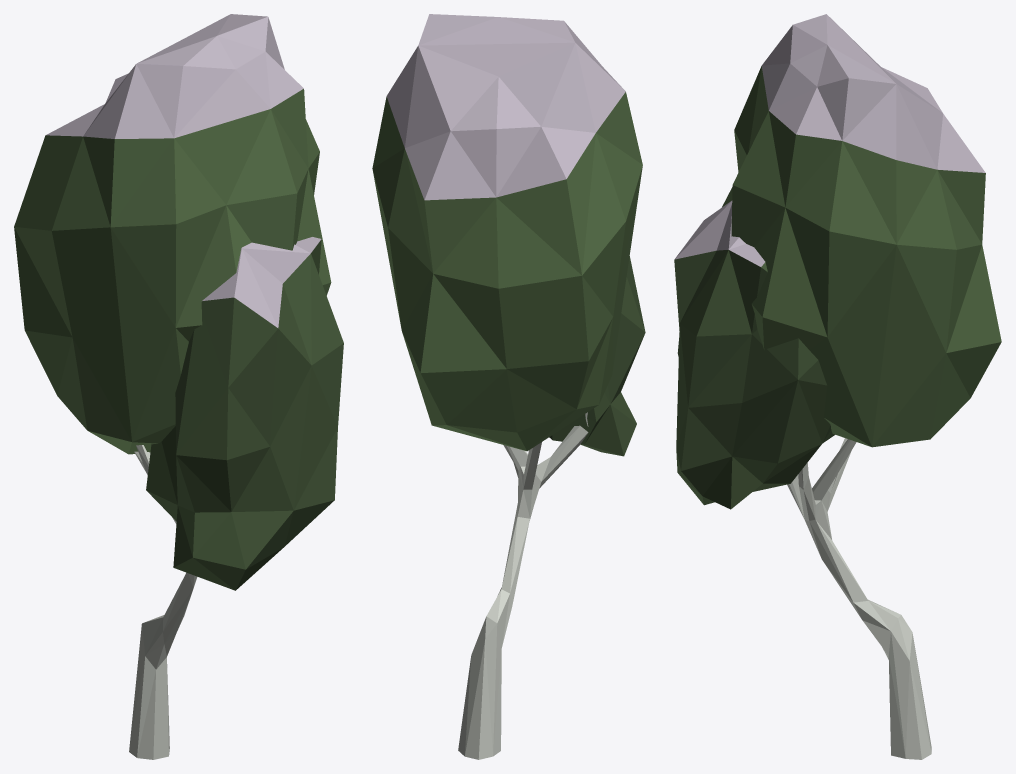
Rendered from BirchTree_Snow_2.lod2.glb.
The picture shows the model from 3 angles, left to right: view 1: azimuth 30°, elevation 25°; view 2: azimuth 150°, elevation 25°; view 3: azimuth 270°, elevation 25°; orthographic projection. The views are drawn at different scales.
Visible parts, largest first — view 1: BirchTree_Snow_2; view 2: BirchTree_Snow_2; view 3: BirchTree_Snow_2.
Boxes of the visible parts, x1=… form: BirchTree_Snow_2: x1=14, y1=14, x2=343, y2=759; BirchTree_Snow_2: x1=372, y1=14, x2=645, y2=759; BirchTree_Snow_2: x1=674, y1=14, x2=1001, y2=759.
Size of the model in its own units: 1.47 by 4.09 by 1.69.
